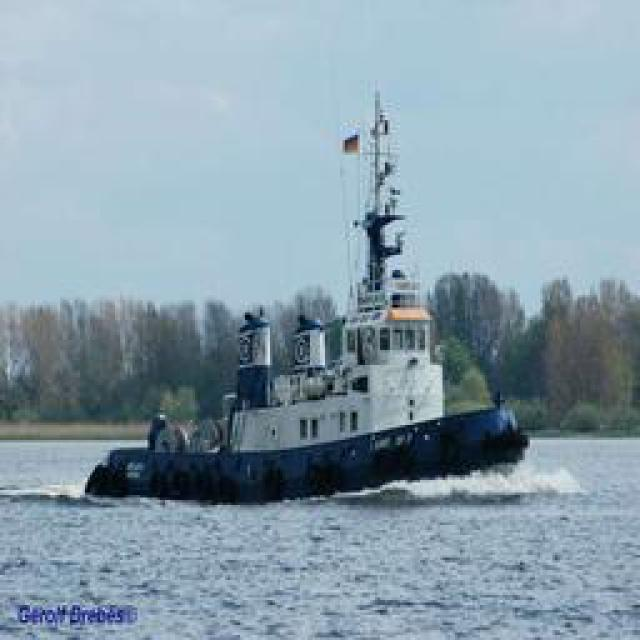Ship: (102, 52, 530, 502)
